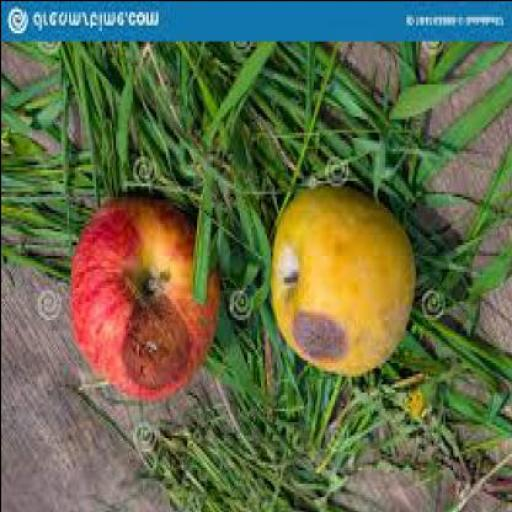biodegradable: (66, 196, 217, 405), (264, 184, 414, 378)
